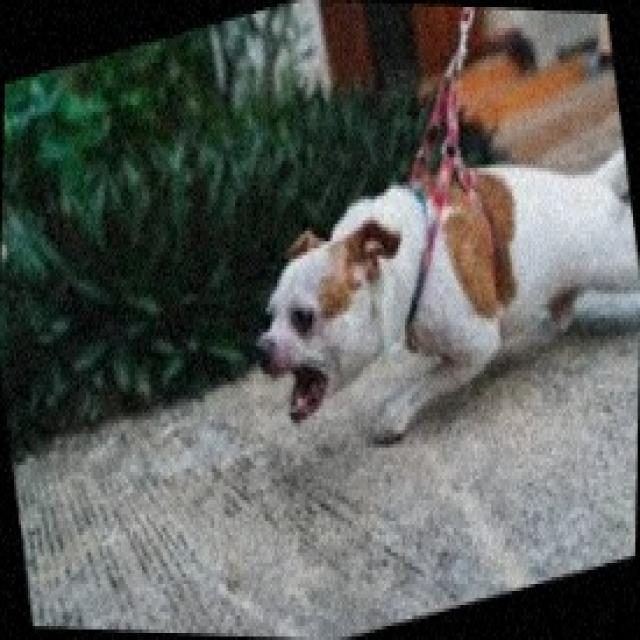angry: (247, 114, 640, 425)
